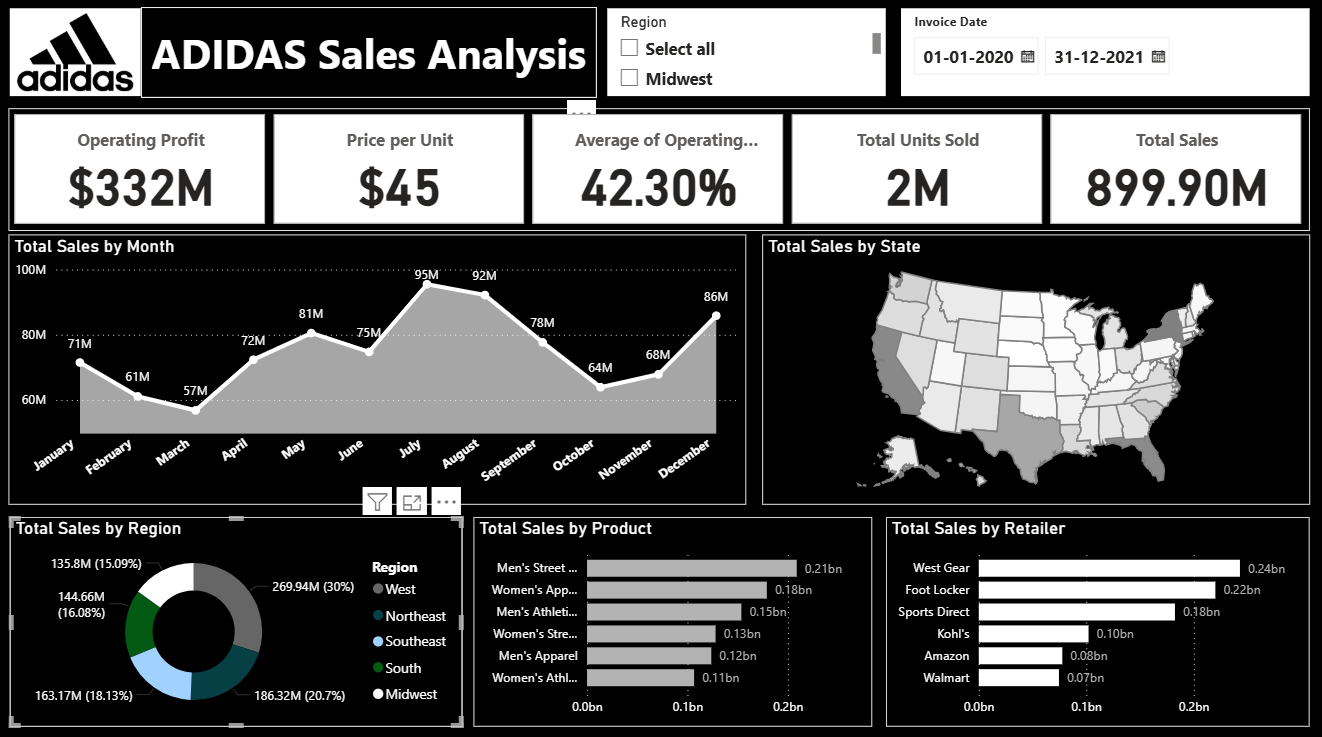

What the dashboard file says about the page in this screenshot:
{"tool":"powerbi","page":{"name":"Page 1","canvas":[1280,720],"ordinal":0},"visuals":[{"type":"image","box":[13.7,11,126.1,85],"z":0},{"type":"shape","title":"A","box":[139.8,9.6,440,87.7],"z":1000},{"type":"cardVisual","fields":{"Data":["Sum(Data Sales Adidas.Operating Profit)","Avg(Data Sales Adidas.Price per Unit)","Avg(Data Sales Adidas.Operating Margin)","Sum(Data Sales Adidas.Units Sold)","Sum(Data Sales Adidas.Total Sales)"]},"box":[12.1,107.4,1255.9,118.2],"z":2000},{"type":"areaChart","title":"Total Sales by Month","fields":{"Category":["Data Sales Adidas.Invoice Date.Variation.Date Hierarchy.Month"],"Y":["Sum(Data Sales Adidas.Total Sales)"]},"box":[12.1,229.2,711.8,260.6],"z":3000},{"type":"shapeMap","title":"Total Sales by State","fields":{"Category":["Data Sales Adidas.State"],"Value":["Sum(Data Sales Adidas.Total Sales)"]},"box":[739.5,229.2,528.4,260.6],"z":4000},{"type":"donutChart","title":"Total Sales by Region","fields":{"Y":["Sum(Data Sales Adidas.Total Sales)"],"Category":["Data Sales Adidas.Region"]},"box":[13.3,501.9,436.7,202.7],"z":5000},{"type":"barChart","title":"Total Sales by Product","fields":{"Category":["Data Sales Adidas.Product"],"Y":["Sum(Data Sales Adidas.Total Sales)"]},"box":[460.9,501.9,384.9,202.7],"z":6000},{"type":"barChart","title":"Total Sales by Retailer","fields":{"Y":["Sum(Data Sales Adidas.Total Sales)"],"Category":["Data Sales Adidas.Retailer"]},"box":[859,501.9,409,202.7],"z":7000},{"type":"slicer","fields":{"Values":["Data Sales Adidas.Region"]},"box":[589.9,10.9,269,84.5],"z":8000},{"type":"slicer","fields":{"Values":["Data Sales Adidas.Invoice Date"]},"box":[873.5,10.9,394.5,84.5],"z":9000}]}

Visuals, with their boxes in screenshot pixels (x1, y1, x2, y2), scaled from the page's 1280x720 canvas onto the 1322x737 screenshot:
image: box=[14, 11, 144, 98]
"A" shape: box=[144, 10, 599, 100]
cardVisual - Sum(Data Sales Adidas.Operating Profit) x Avg(Data Sales Adidas.Price per Unit): box=[12, 110, 1310, 231]
"Total Sales by Month" areaChart: box=[12, 235, 748, 501]
"Total Sales by State" shapeMap: box=[764, 235, 1310, 501]
"Total Sales by Region" donutChart: box=[14, 514, 465, 721]
"Total Sales by Product" barChart: box=[476, 514, 874, 721]
"Total Sales by Retailer" barChart: box=[887, 514, 1310, 721]
slicer - Data Sales Adidas.Region: box=[609, 11, 887, 98]
slicer - Data Sales Adidas.Invoice Date: box=[902, 11, 1310, 98]
